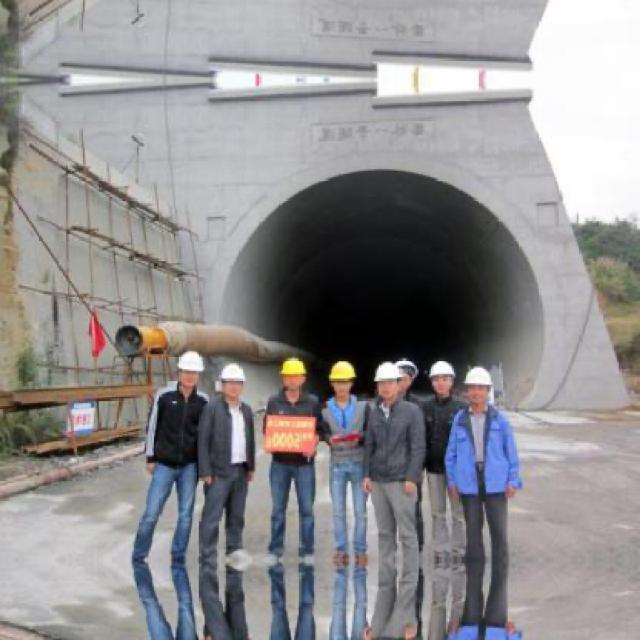con casco: (141, 331, 216, 387), (376, 354, 425, 423), (276, 339, 322, 402), (460, 362, 505, 420), (327, 354, 362, 402), (429, 358, 458, 401), (223, 358, 251, 391)
